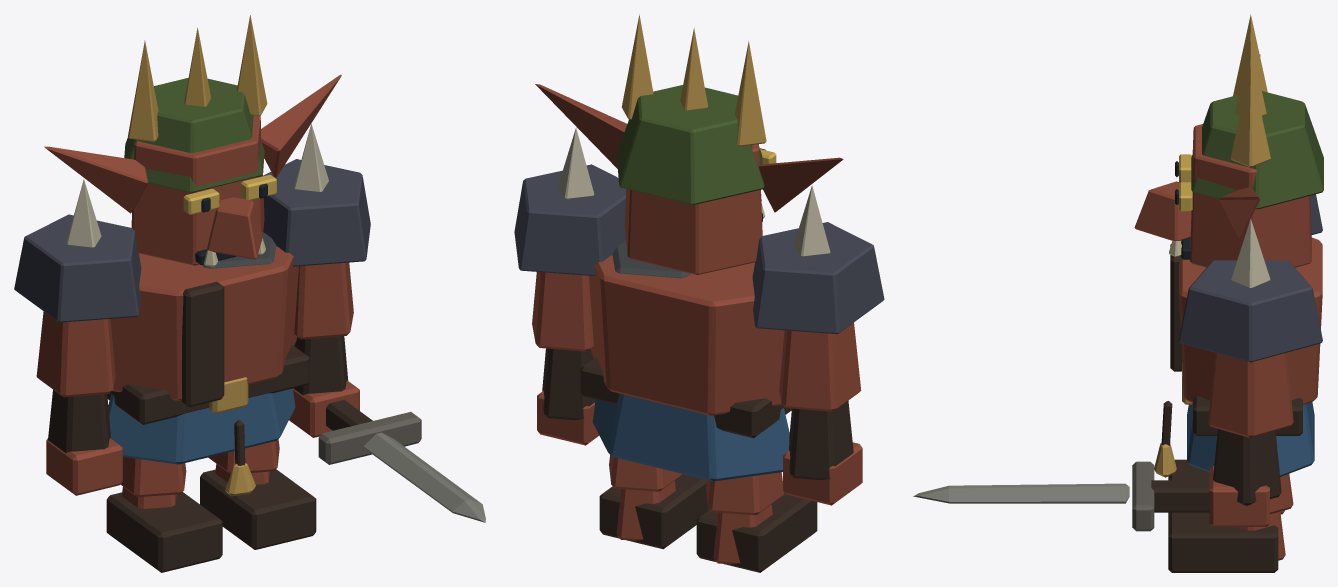
Rendered from boss.glb.
3 renders of one model, left to right at view 1: azimuth 30°, elevation 25°; view 2: azimuth 150°, elevation 25°; view 3: azimuth 270°, elevation 25°, orthographic. The views are drawn at different scales.
Parts seen in each view (by area): view 1: head.008, torso.008, pelvis.008, shin_l.008, weapon.008, shin_r.008, forearm_l.008, upper_arm_l.008, forearm_r.008, upper_arm_r.008, thigh_l.008, thigh_r.008 (+1 smaller); view 2: head.008, torso.008, pelvis.008, forearm_l.008, shin_l.008, upper_arm_l.008, shin_r.008, forearm_r.008, upper_arm_r.008, thigh_l.008, thigh_r.008; view 3: head.008, weapon.008, torso.008, shin_r.008, forearm_r.008, upper_arm_r.008, pelvis.008, talisman.004, shin_l.008, thigh_r.008.
Part boxes in pixels (x1=…): head.008: x1=14, y1=15, x2=370, y2=322; torso.008: x1=110, y1=232, x2=298, y2=407; pelvis.008: x1=107, y1=345, x2=309, y2=464; shin_l.008: x1=106, y1=487, x2=222, y2=572; weapon.008: x1=318, y1=400, x2=485, y2=522; shin_r.008: x1=200, y1=464, x2=316, y2=549; forearm_l.008: x1=46, y1=389, x2=122, y2=495; upper_arm_l.008: x1=36, y1=311, x2=115, y2=397; forearm_r.008: x1=289, y1=336, x2=359, y2=437; upper_arm_r.008: x1=294, y1=262, x2=353, y2=339; thigh_l.008: x1=120, y1=457, x2=186, y2=497; thigh_r.008: x1=208, y1=439, x2=279, y2=473; head.008: x1=514, y1=14, x2=884, y2=334; torso.008: x1=589, y1=240, x2=784, y2=415; pelvis.008: x1=580, y1=357, x2=791, y2=481; forearm_l.008: x1=783, y1=400, x2=862, y2=505; shin_l.008: x1=696, y1=492, x2=817, y2=572; upper_arm_l.008: x1=779, y1=322, x2=861, y2=411; shin_r.008: x1=599, y1=474, x2=709, y2=549; forearm_r.008: x1=537, y1=348, x2=599, y2=445; upper_arm_r.008: x1=532, y1=272, x2=593, y2=351; thigh_l.008: x1=706, y1=472, x2=784, y2=515; thigh_r.008: x1=609, y1=455, x2=682, y2=491; head.008: x1=1134, y1=14, x2=1323, y2=362; weapon.008: x1=913, y1=461, x2=1209, y2=531; torso.008: x1=1170, y1=237, x2=1322, y2=404; shin_r.008: x1=1168, y1=511, x2=1285, y2=572; forearm_r.008: x1=1209, y1=429, x2=1281, y2=526; upper_arm_r.008: x1=1208, y1=352, x2=1293, y2=438; pelvis.008: x1=1182, y1=363, x2=1314, y2=476; talisman.004: x1=1154, y1=401, x2=1176, y2=477; shin_l.008: x1=1168, y1=459, x2=1284, y2=514; thigh_r.008: x1=1270, y1=474, x2=1293, y2=514.
Bounding box in the file's own units: 1.4 × 1.99 × 1.49.
